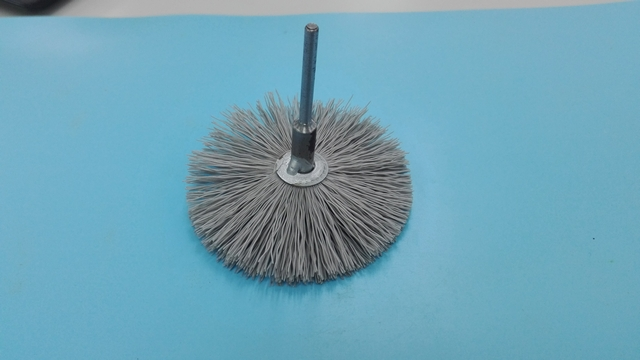TOOL: (122, 15, 567, 334), (175, 30, 424, 287)
